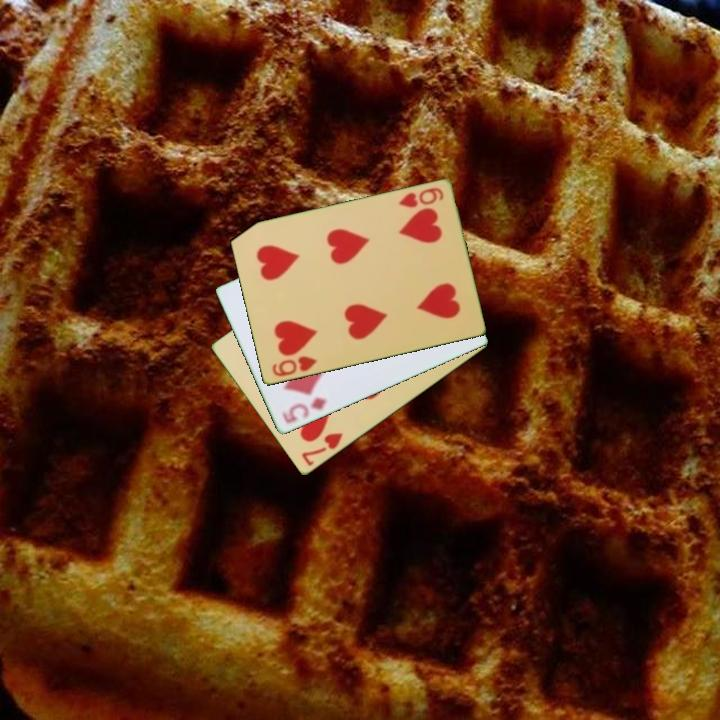5d: (278, 394, 329, 427)
6h: (268, 353, 320, 380), (394, 184, 446, 211)
7h: (298, 429, 346, 469)
